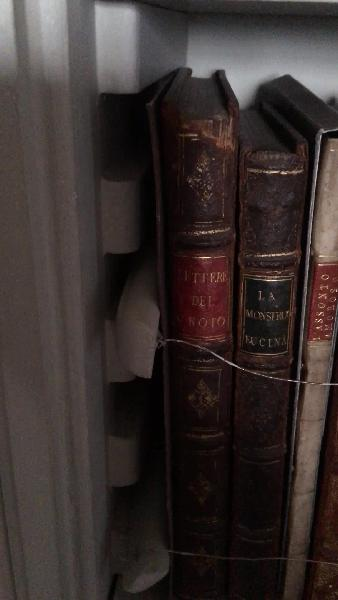Aa6-1: (145, 87, 239, 590)
Aa6-2: (233, 137, 306, 600)
Aa6-3: (269, 109, 337, 600)
